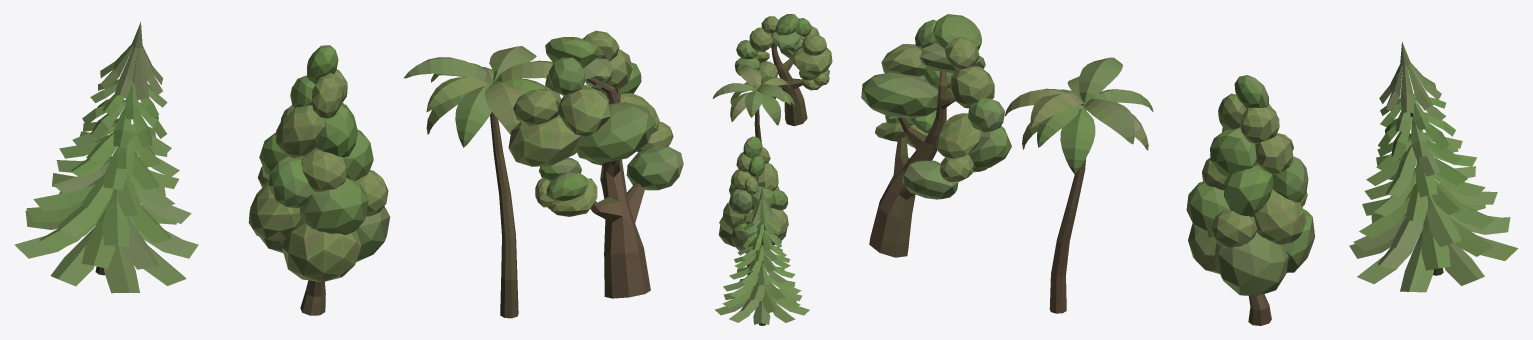
The model's file is oaktrees.glb.
3 views of the same model, side by side, from view 1: azimuth 30°, elevation 25°; view 2: azimuth 150°, elevation 25°; view 3: azimuth 270°, elevation 25° (orthographic). The views are drawn at different scales.
Visible parts, largest first — view 1: Oak_Tree, Fir_Tree, Poplar_Tree, Palm_Tree; view 2: Fir_Tree, Oak_Tree, Poplar_Tree, Palm_Tree; view 3: Fir_Tree, Oak_Tree, Poplar_Tree, Palm_Tree.
Part boxes in pixels (x1,y1,x2,y2): Oak_Tree: [508, 30, 683, 298]; Fir_Tree: [14, 22, 198, 293]; Poplar_Tree: [248, 45, 390, 315]; Palm_Tree: [403, 46, 553, 318]; Fir_Tree: [715, 186, 809, 325]; Oak_Tree: [734, 14, 832, 126]; Poplar_Tree: [719, 136, 788, 274]; Palm_Tree: [712, 66, 794, 146]; Fir_Tree: [1349, 41, 1518, 292]; Oak_Tree: [861, 14, 1011, 257]; Poplar_Tree: [1186, 75, 1314, 325]; Palm_Tree: [1004, 57, 1153, 313].
Size of the model in its own units: 8.77 by 8.2 by 14.
1 material, 1 textured.
